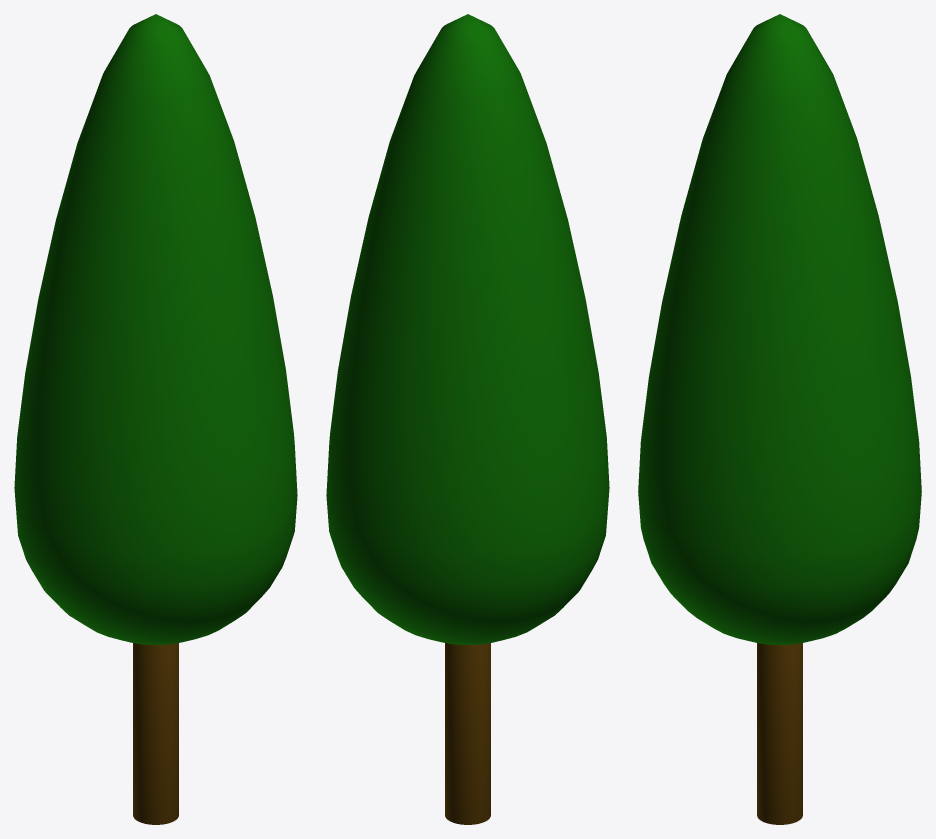
The model's file is Arbol.fbx.
3 views of the same model, side by side, from view 1: azimuth 30°, elevation 25°; view 2: azimuth 150°, elevation 25°; view 3: azimuth 270°, elevation 25° (orthographic).
Visible parts, largest first — view 1: Sphere, Cylinder; view 2: Sphere, Cylinder; view 3: Sphere, Cylinder.
Part boxes in pixels (left/top/right/bottom): Sphere: left=14, top=14, right=297, bottom=645; Cylinder: left=133, top=643, right=178, bottom=824; Sphere: left=326, top=14, right=609, bottom=645; Cylinder: left=445, top=643, right=490, bottom=824; Sphere: left=638, top=14, right=921, bottom=645; Cylinder: left=757, top=643, right=802, bottom=824.
Bounding box in the file's own units: 360 × 1122 × 360.
